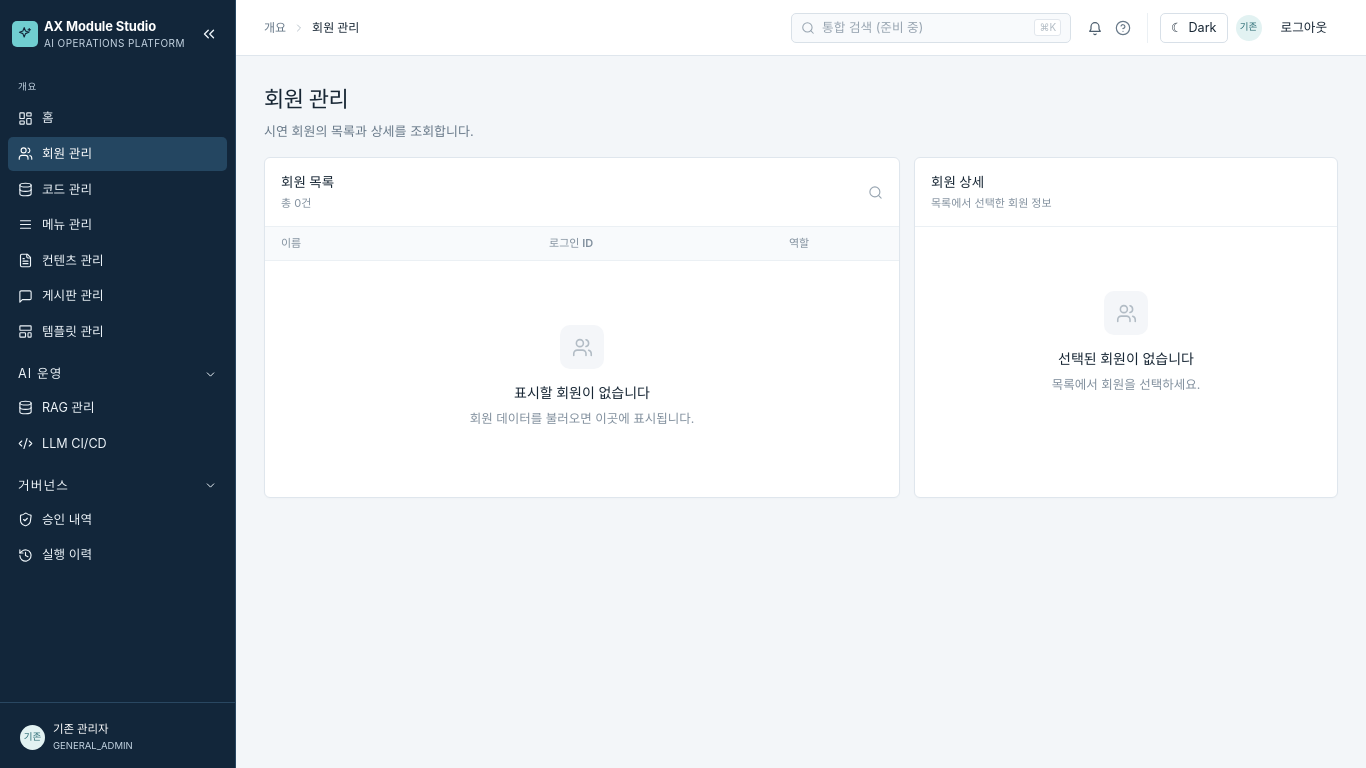
it: an expired response from an older session cannot clear a newer login
Check: the heading "회원 관리" is shown, box [264,86,348,112]
Click the button "로그아웃" at (1304, 28), box [1270,12,1338,42]
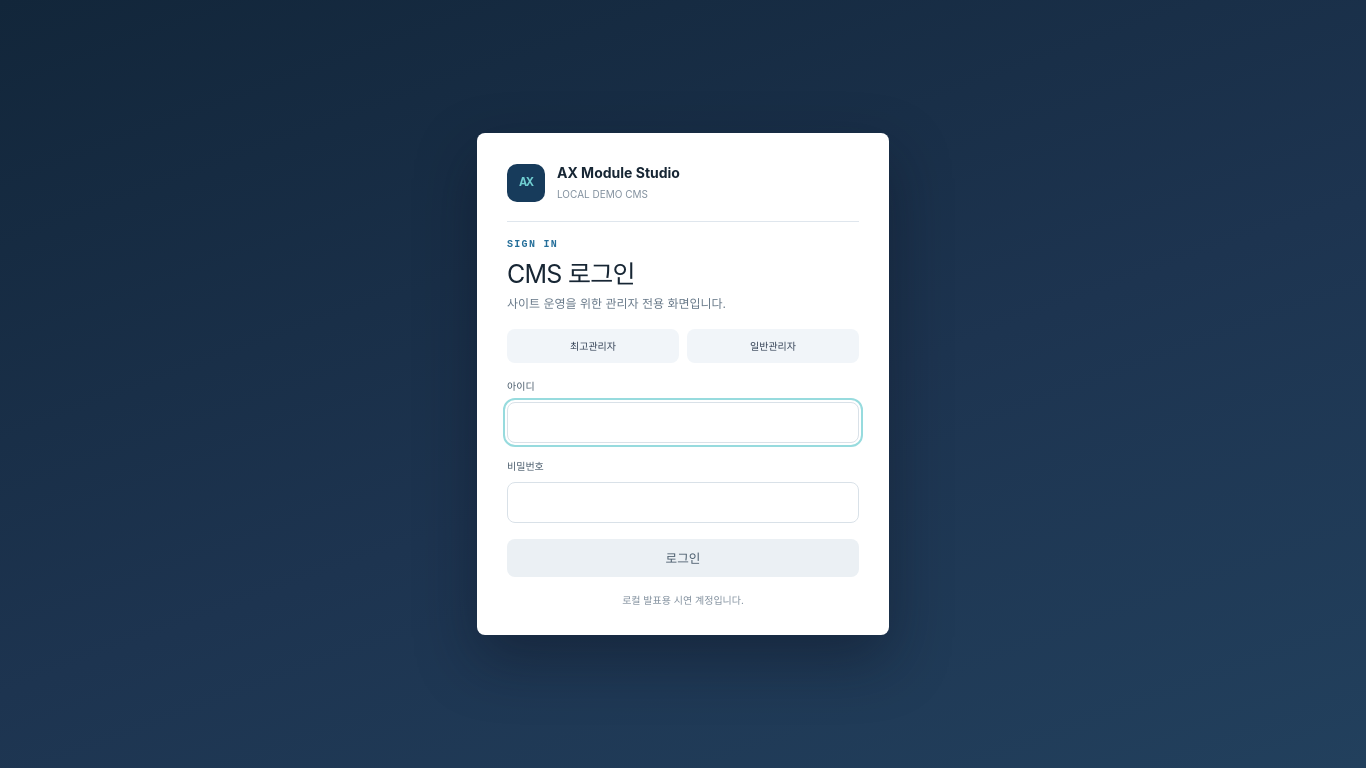
Check: the heading "CMS 로그인" is shown, box [507,258,635,288]
Click the button "최고관리자" at (593, 346), box [507,329,679,363]
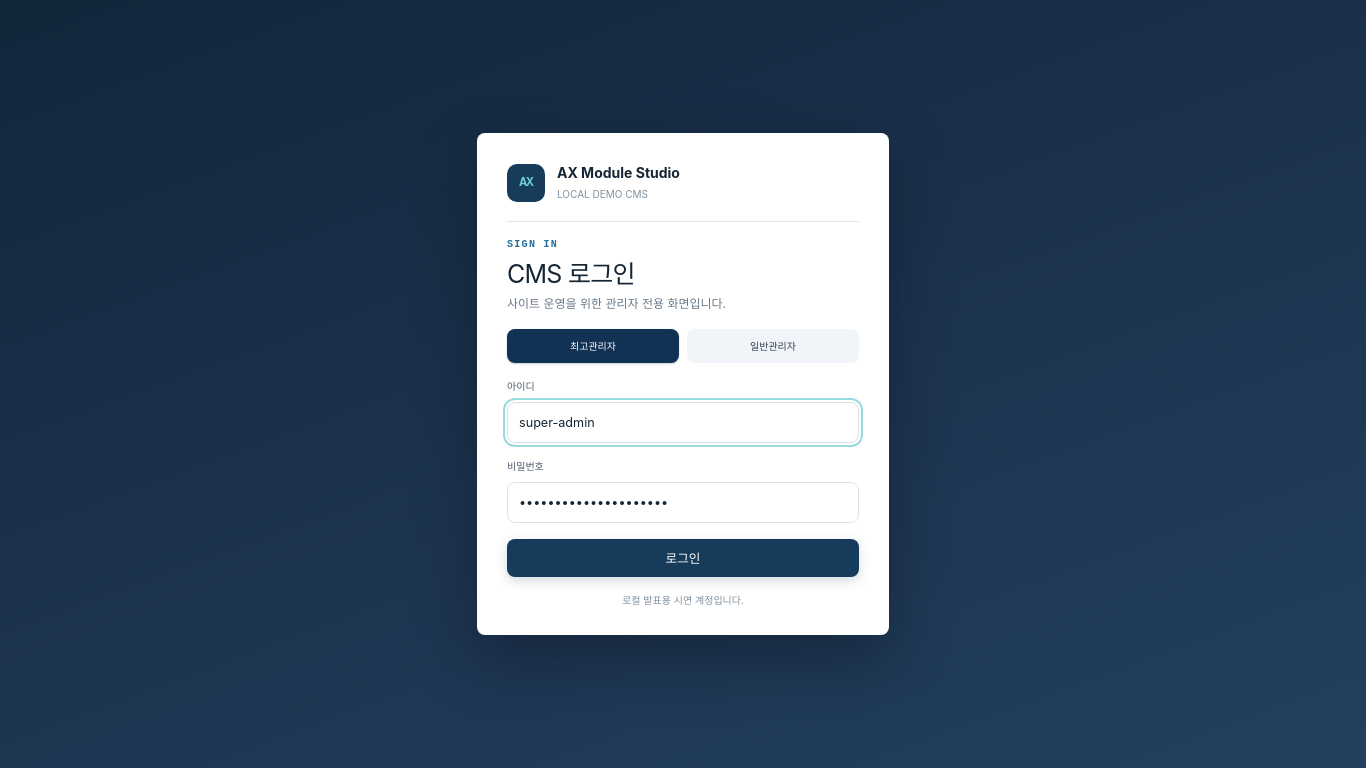
Click the button "로그인" at (683, 558), box [507,540,859,578]
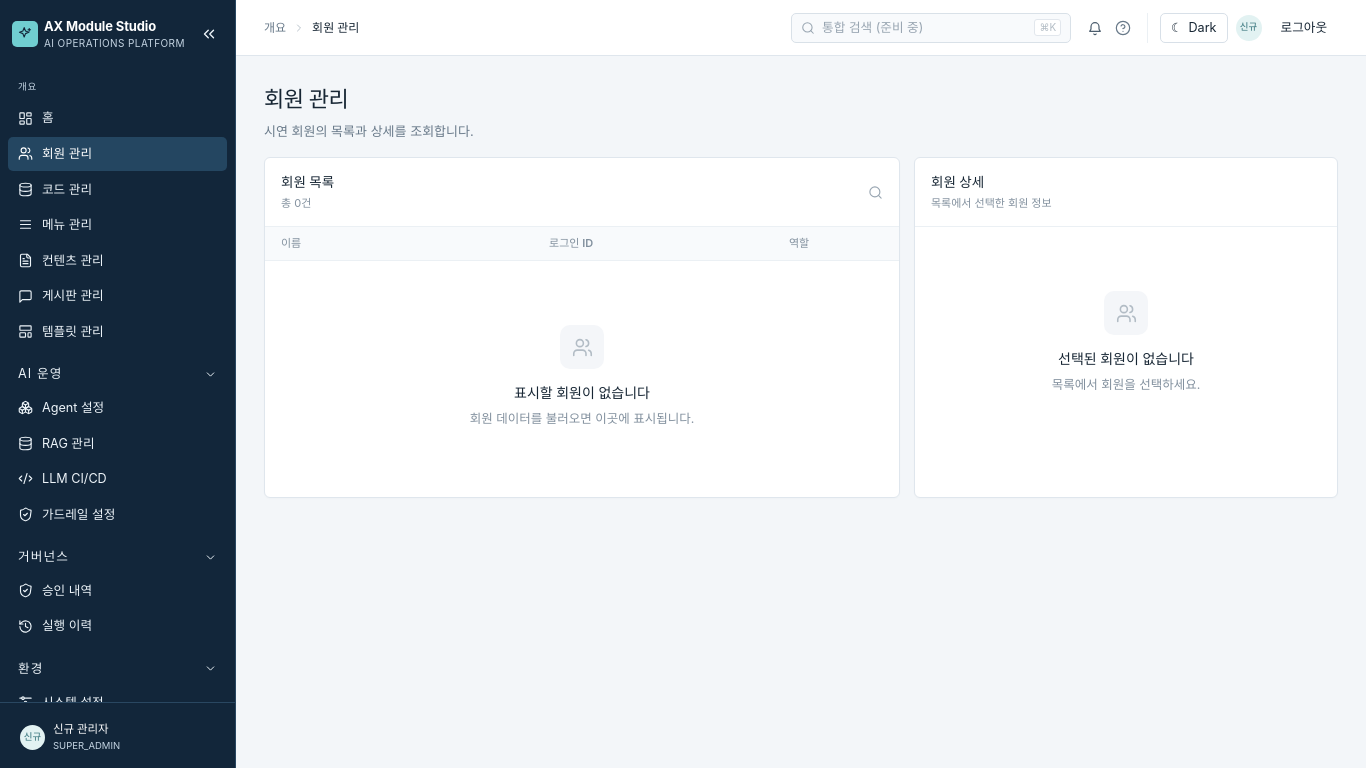
Check: the text "신규 관리자" is shown, box [53,722,109,736]
